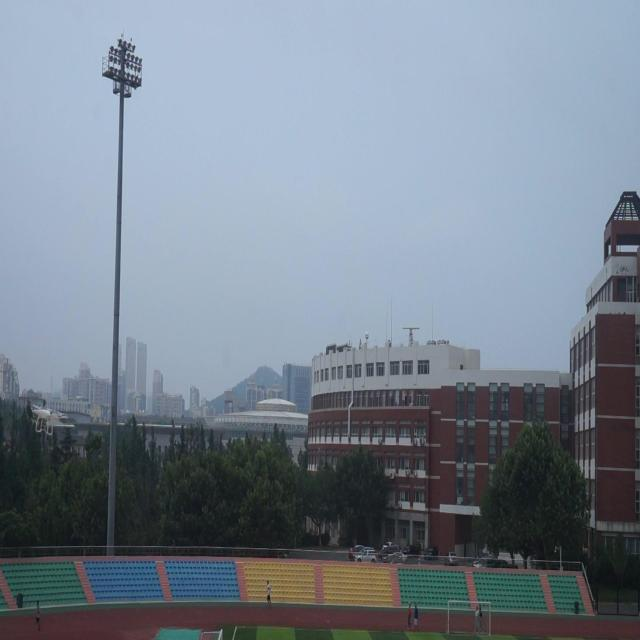drone: (28, 400, 57, 440)
